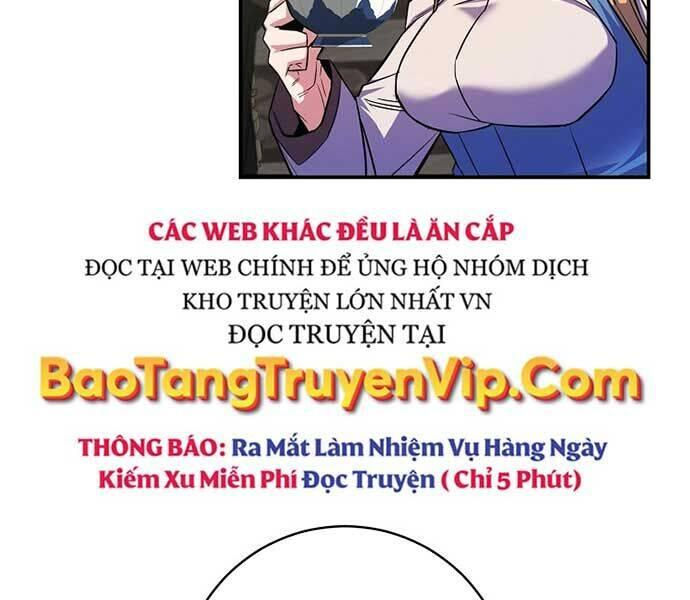quangcao: (40, 215, 645, 497)
